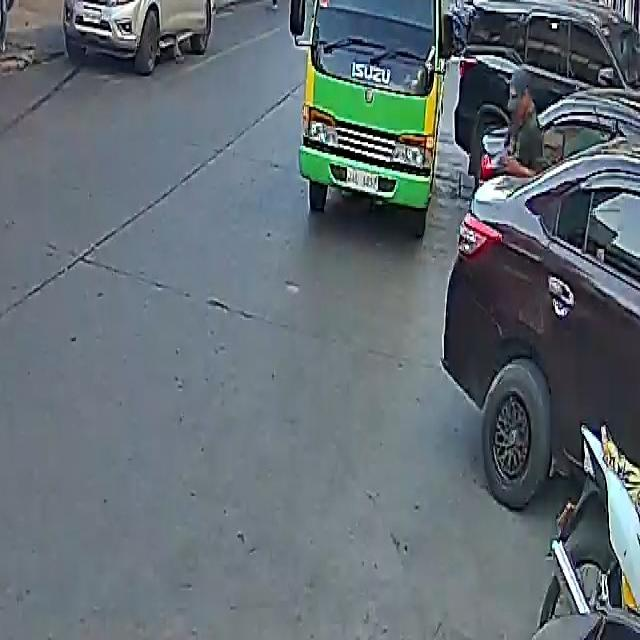car: (444, 50, 640, 539), (63, 0, 222, 69)
